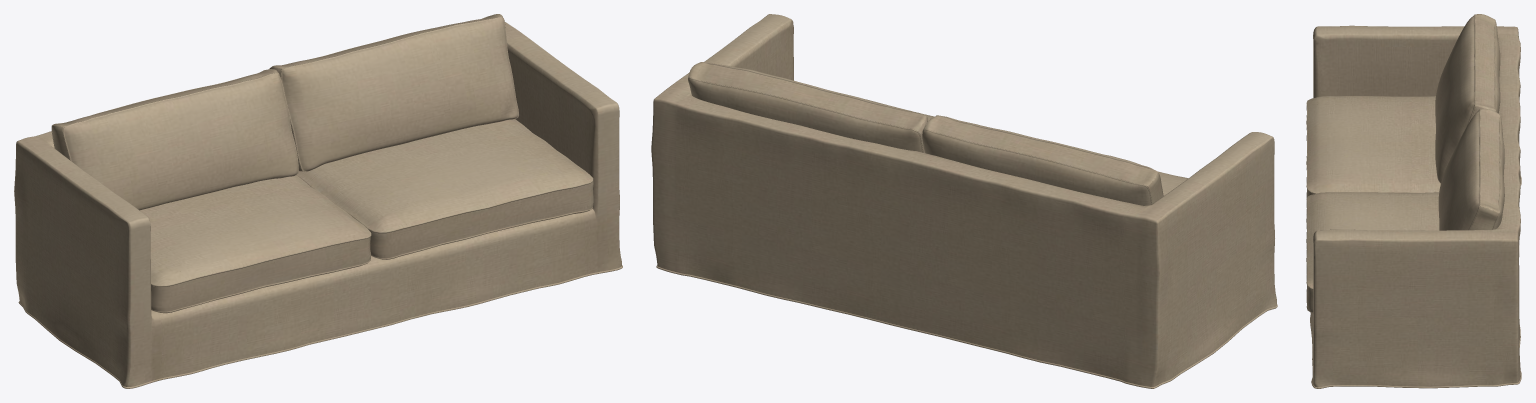
Rendered from abo_B07B4FWQFJ.glb.
3 renders of one model, left to right at view 1: azimuth 30°, elevation 25°; view 2: azimuth 150°, elevation 25°; view 3: azimuth 270°, elevation 25°, orthographic. The views are drawn at different scales.
Parts seen in each view (by area): view 1: RootNode; view 2: RootNode; view 3: RootNode.
Boxes of the visible parts, left/top/right/bottom form: RootNode: left=14, top=14, right=622, bottom=388; RootNode: left=651, top=14, right=1277, bottom=388; RootNode: left=1306, top=14, right=1521, bottom=388.
Size of the model in its own units: 2.31 by 0.8532 by 0.9622.
1 material, 1 textured.
